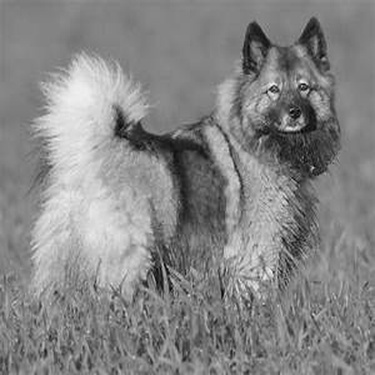dog: (12, 10, 354, 312)
